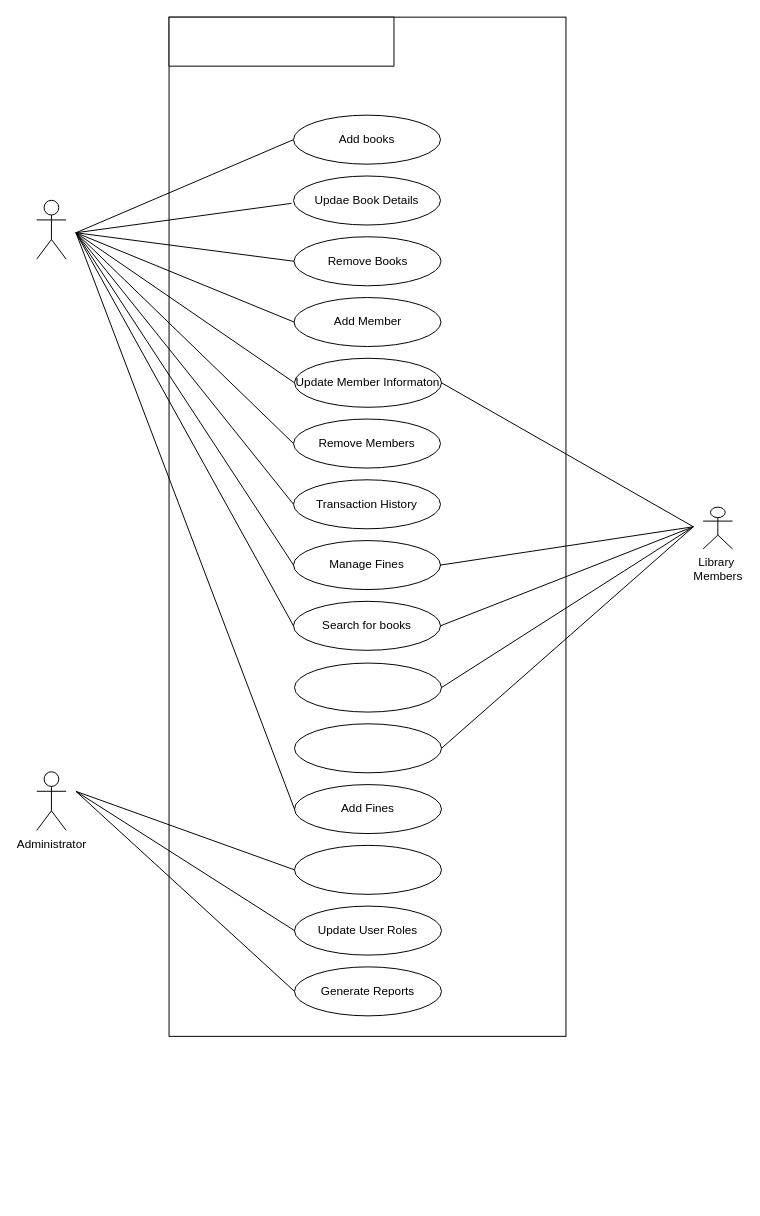
Image size: 760x1216. Some labels were removed from this diagram. Here are the shapes that lost their labels. From the top down, the centre of each, then its label:
At (281,41): "Library Management System".
At (51,229): "Librarian".
At (367,687): "Borrow Books".
At (367,748): "Return Books".
At (367,869): "System Settings".
